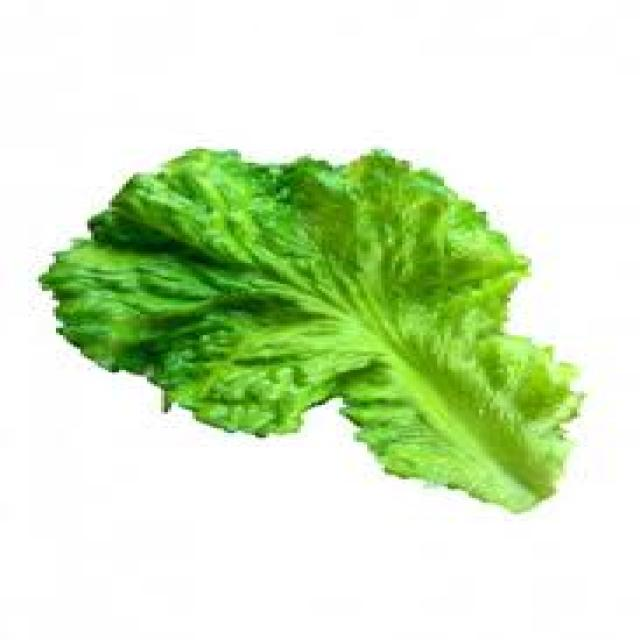lettuce: (35, 145, 588, 514)
